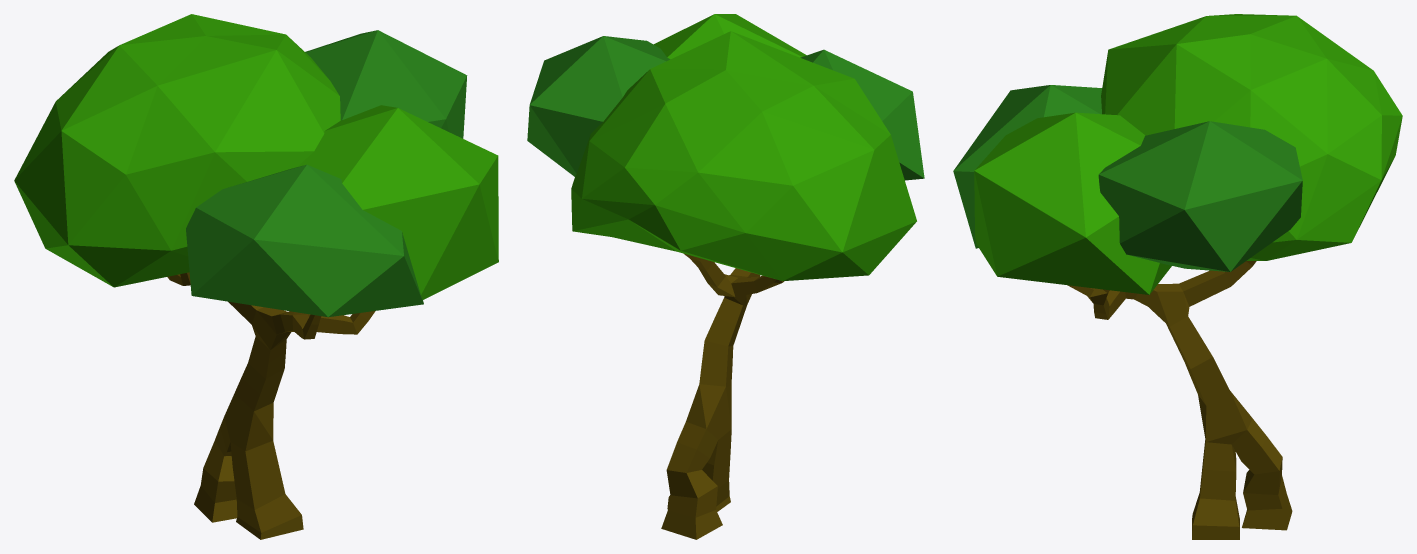
The model's file is Tree1.fbx.
3 views of the same model, side by side, from view 1: azimuth 30°, elevation 25°; view 2: azimuth 150°, elevation 25°; view 3: azimuth 270°, elevation 25° (orthographic). The views are drawn at different scales.
Visible parts, largest first — view 1: Icosphere.004; view 2: Icosphere.004; view 3: Icosphere.004.
Boxes of the visible parts, box(x1,y1,x2,y2) form: Icosphere.004: box(14, 14, 498, 539); Icosphere.004: box(527, 14, 924, 539); Icosphere.004: box(953, 14, 1402, 539).
Bounding box in the file's own units: 716 × 849 × 721.
